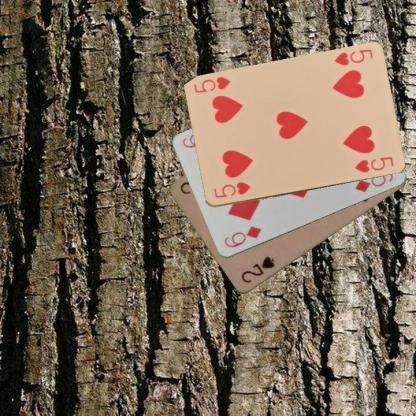2s: (238, 254, 276, 284)
5h: (331, 47, 374, 68), (211, 179, 251, 199)
6d: (222, 224, 262, 249)
